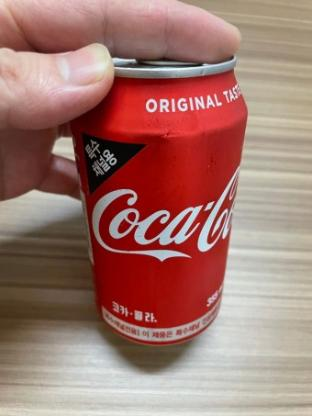Can: (70, 46, 249, 346)
